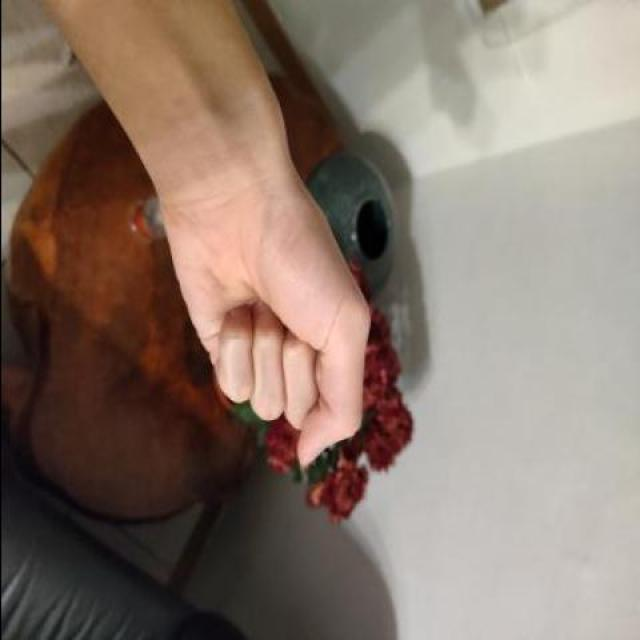fist: (153, 170, 404, 462)
